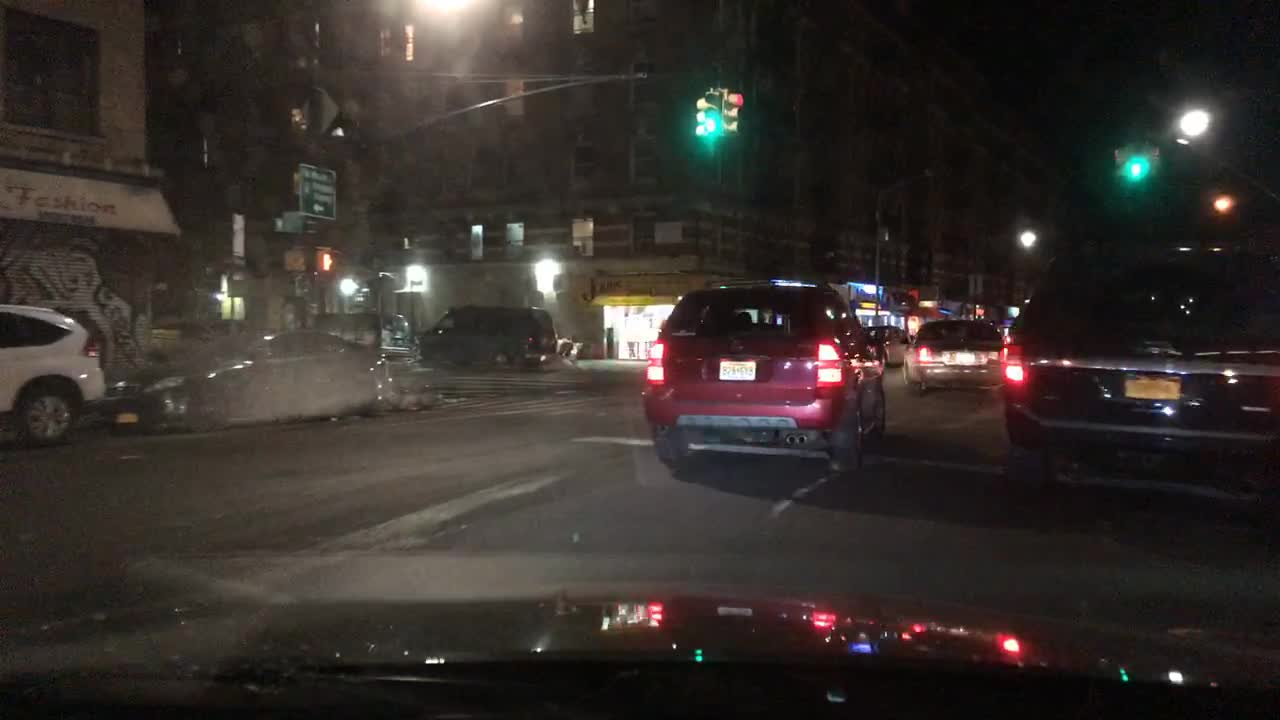car: (999, 245, 1278, 494), (642, 277, 889, 476), (112, 326, 385, 435), (0, 302, 107, 447), (418, 305, 556, 371), (899, 322, 1005, 395), (306, 314, 411, 347), (862, 324, 910, 368)
traffic light: (700, 89, 718, 137), (309, 248, 337, 275), (725, 89, 740, 136), (1143, 143, 1163, 178), (1127, 137, 1143, 179), (1110, 143, 1127, 173), (337, 275, 358, 299), (694, 98, 706, 140), (281, 250, 306, 269)
traffic sign: (299, 161, 337, 220)
